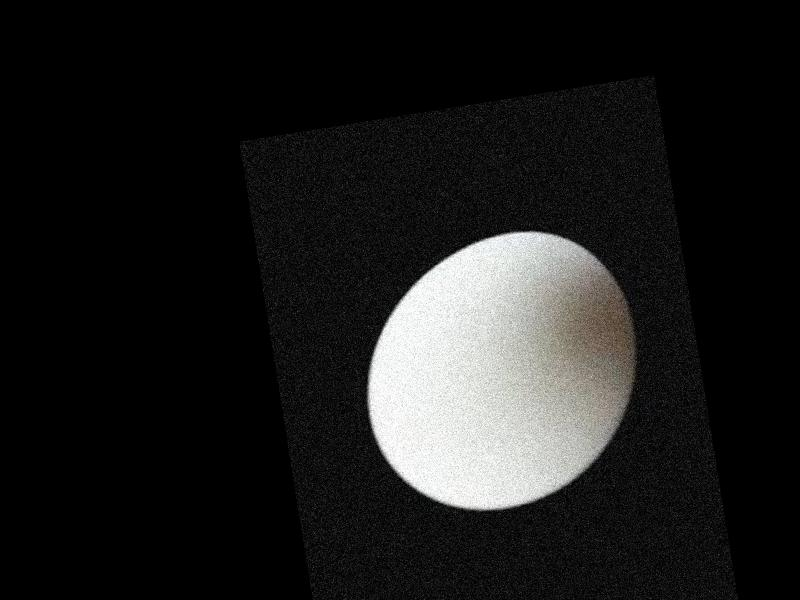Eggs: (344, 215, 654, 526)
